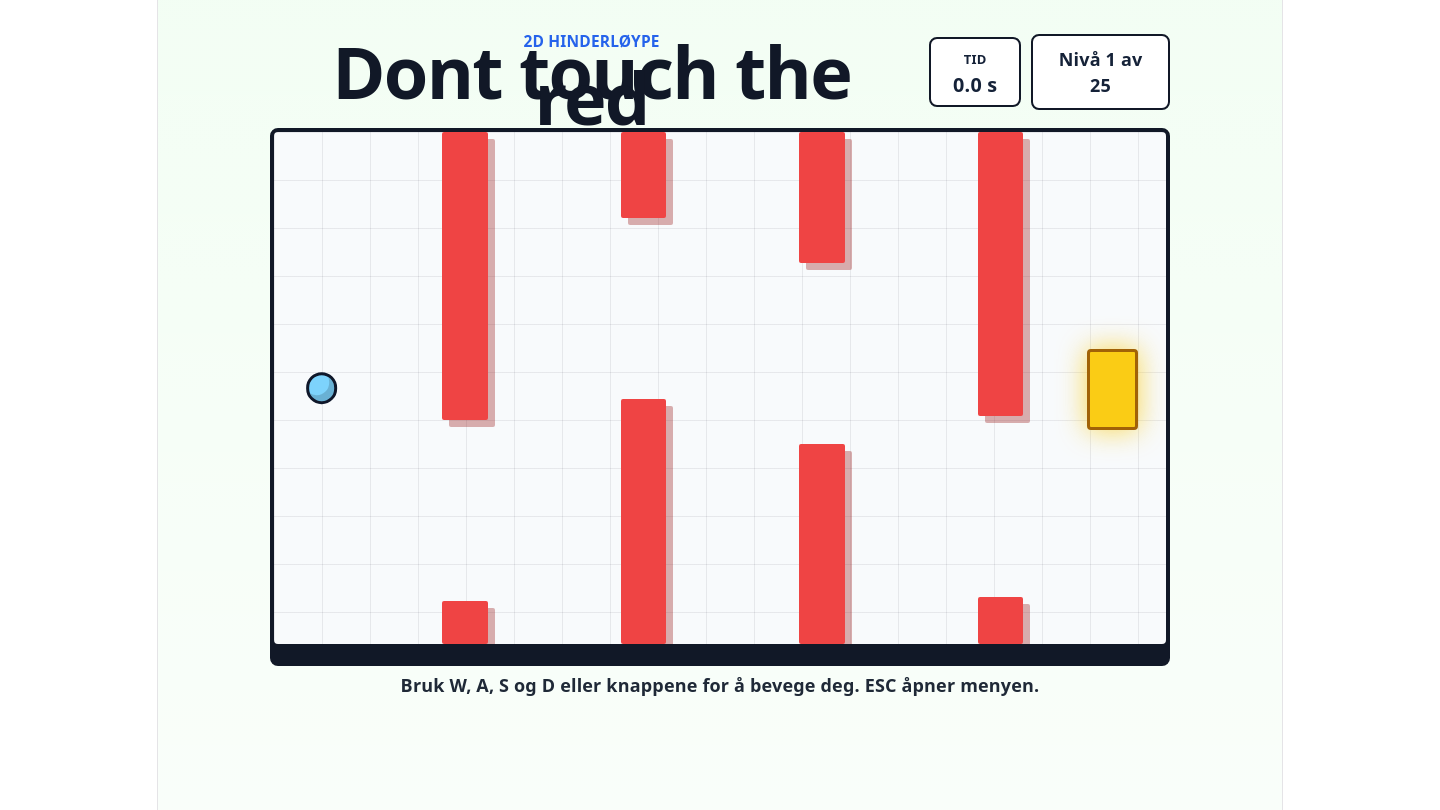
Scenario: opens a full-screen dark blue levels menu with locked levels
Press Escape
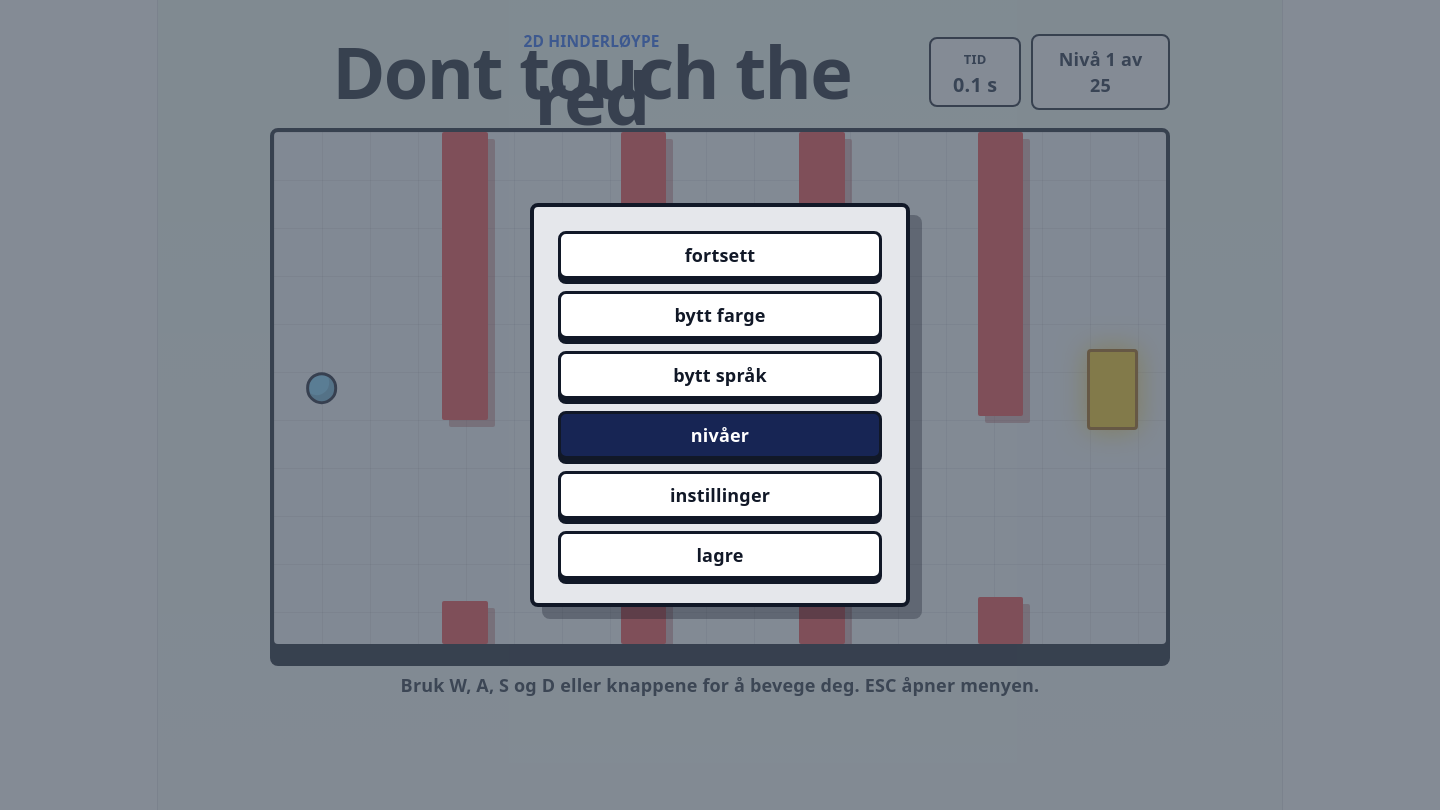
Click the button "nivåer" at (720, 435), box [558,411,882,459]
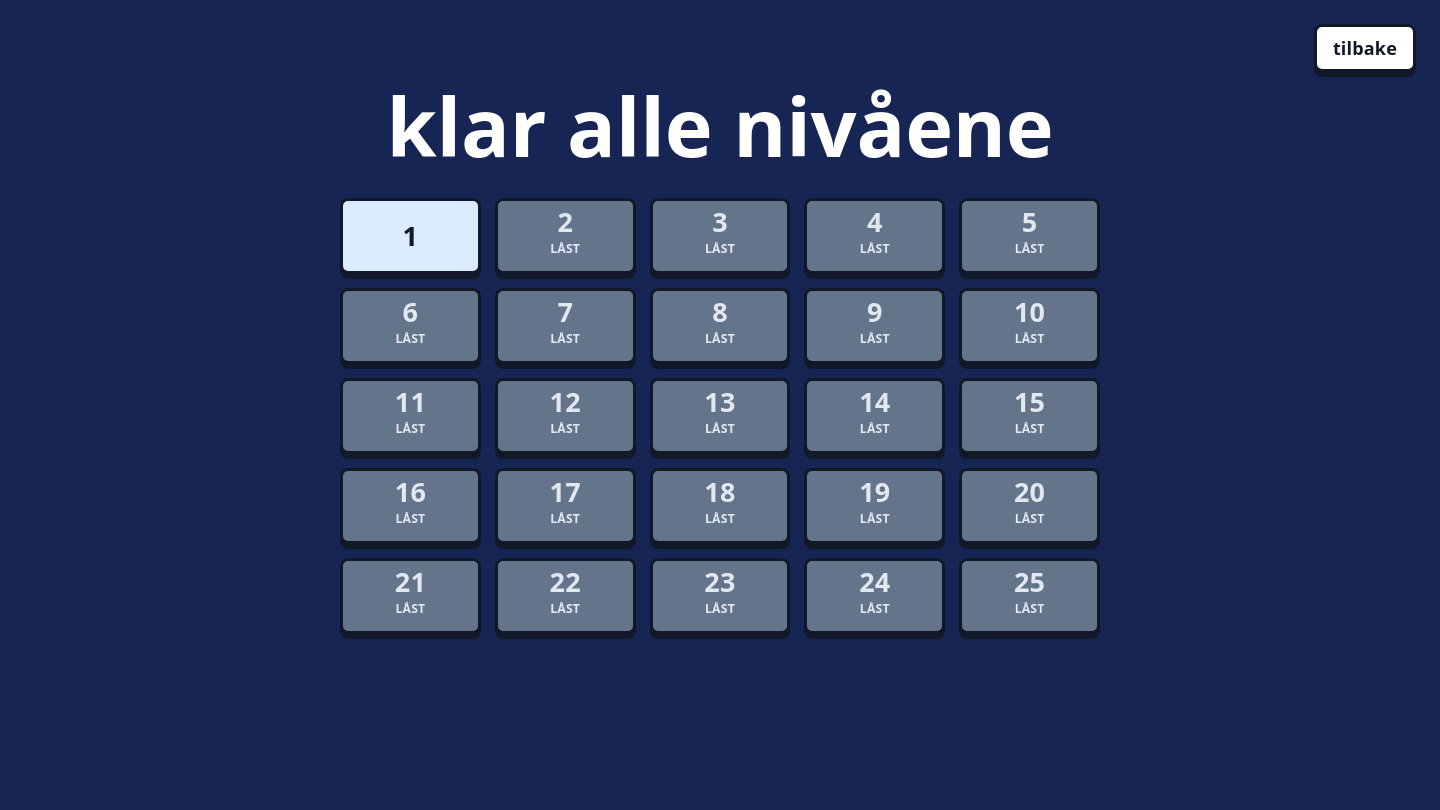
Expected: the heading "klar alle nivåene" is shown, [387,70,1053,181]
Expected: the button named "Nivå 1" is enabled, [340,198,481,274]
Expected: the button with aria-label "Nivå 2 låst" is disabled, [495,198,636,274]
